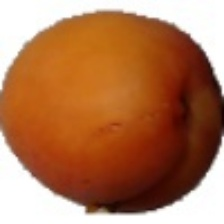apricot: (31, 53, 179, 198)
